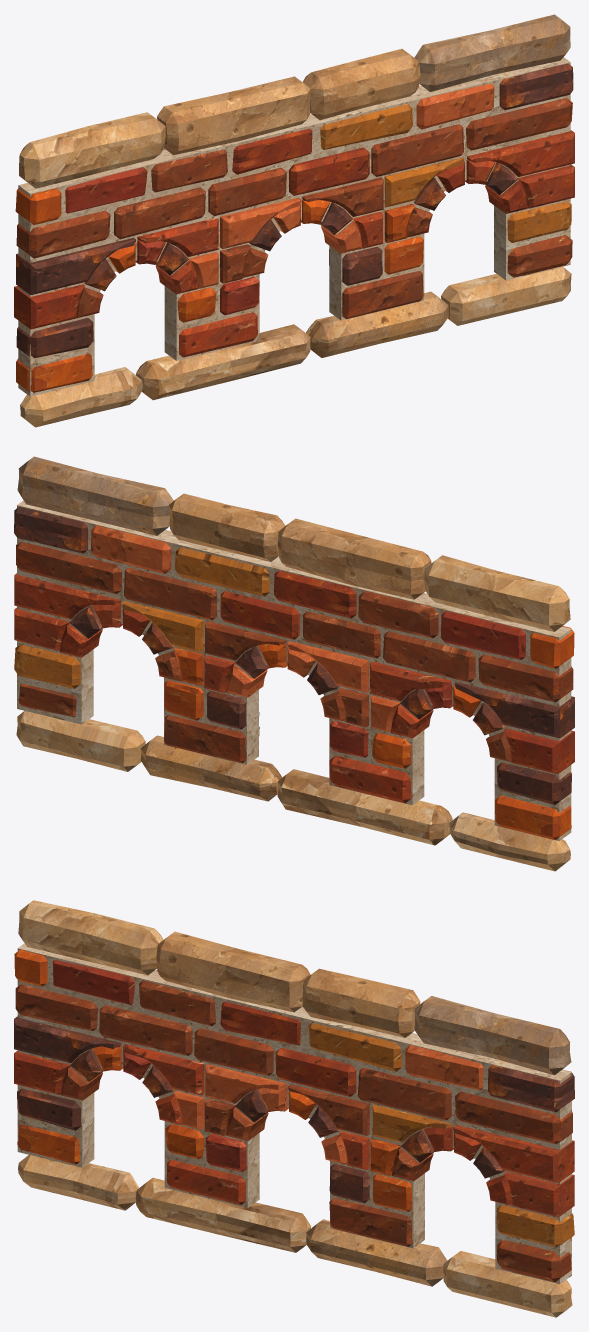
The model's file is railing__clay_brick.glb.
3 renders of one model, top to bottom at view 1: azimuth 30°, elevation 25°; view 2: azimuth 150°, elevation 25°; view 3: azimuth 330°, elevation 25°, orthographic.
Visible parts, largest first — view 1: model; view 2: model; view 3: model.
Boxes of the visible parts, box(x1,y1,x2,y2) form: model: box(14, 14, 574, 427); model: box(14, 456, 574, 871); model: box(14, 900, 574, 1317).
Bounding box in the file's own units: 1.98 × 0.984 × 0.1376.
Materials: 13 (13 with a texture image).
